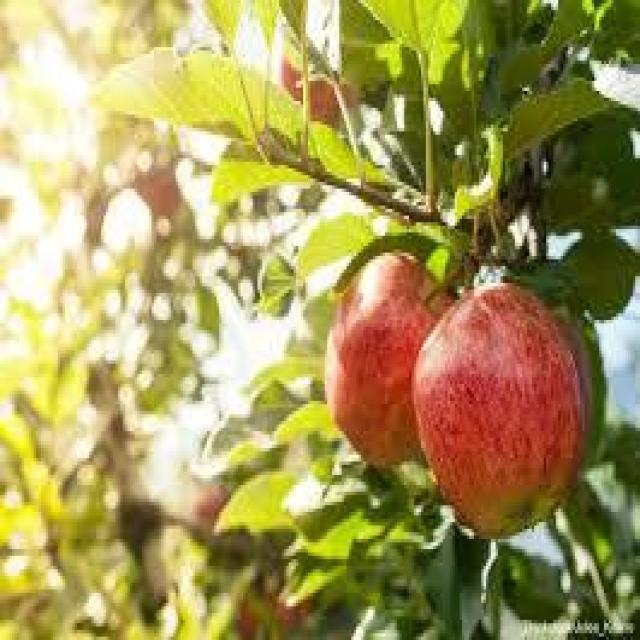fruit: (422, 287, 606, 557), (323, 248, 465, 473), (307, 66, 353, 141), (280, 45, 324, 106)
